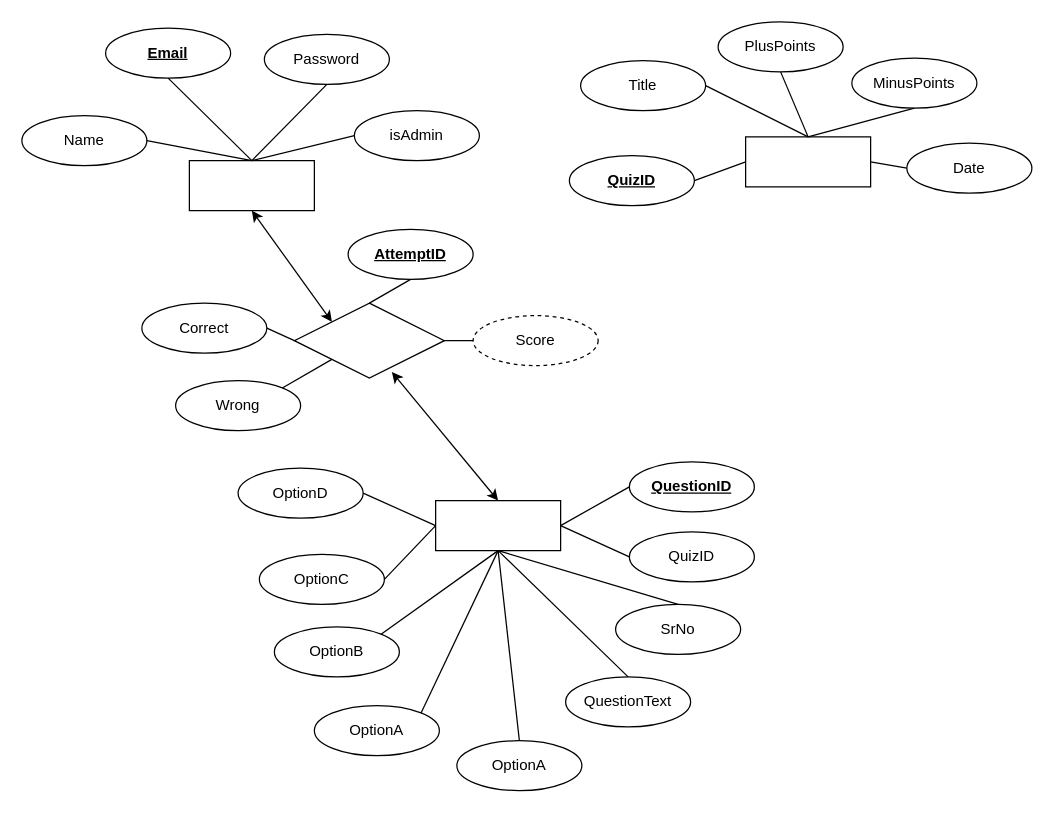
This 1054x813 diagram has some shape labels left out. Each missing label, with the centre of its shape:
"Attempt" belongs at [368,340].
"Questions" belongs at [497,525].
"Quiz" belongs at [807,161].
"User" belongs at [251,185].
